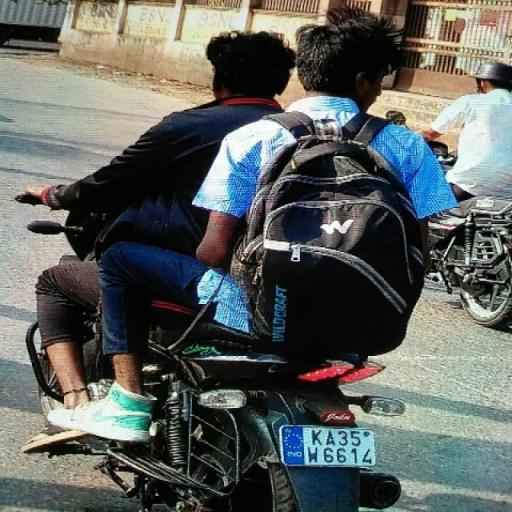bike: (13, 9, 466, 512)
numberplate: (282, 428, 374, 468)
withouthelmet: (298, 17, 389, 100), (210, 32, 295, 100)
